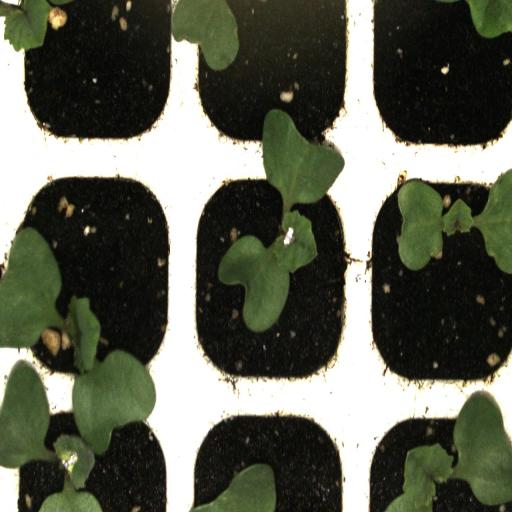Folha: (190, 463, 277, 512), (0, 0, 68, 51)
Germinacao: (180, 164, 360, 398), (2, 157, 182, 386), (356, 160, 512, 398), (1, 387, 180, 512), (359, 398, 512, 512)
